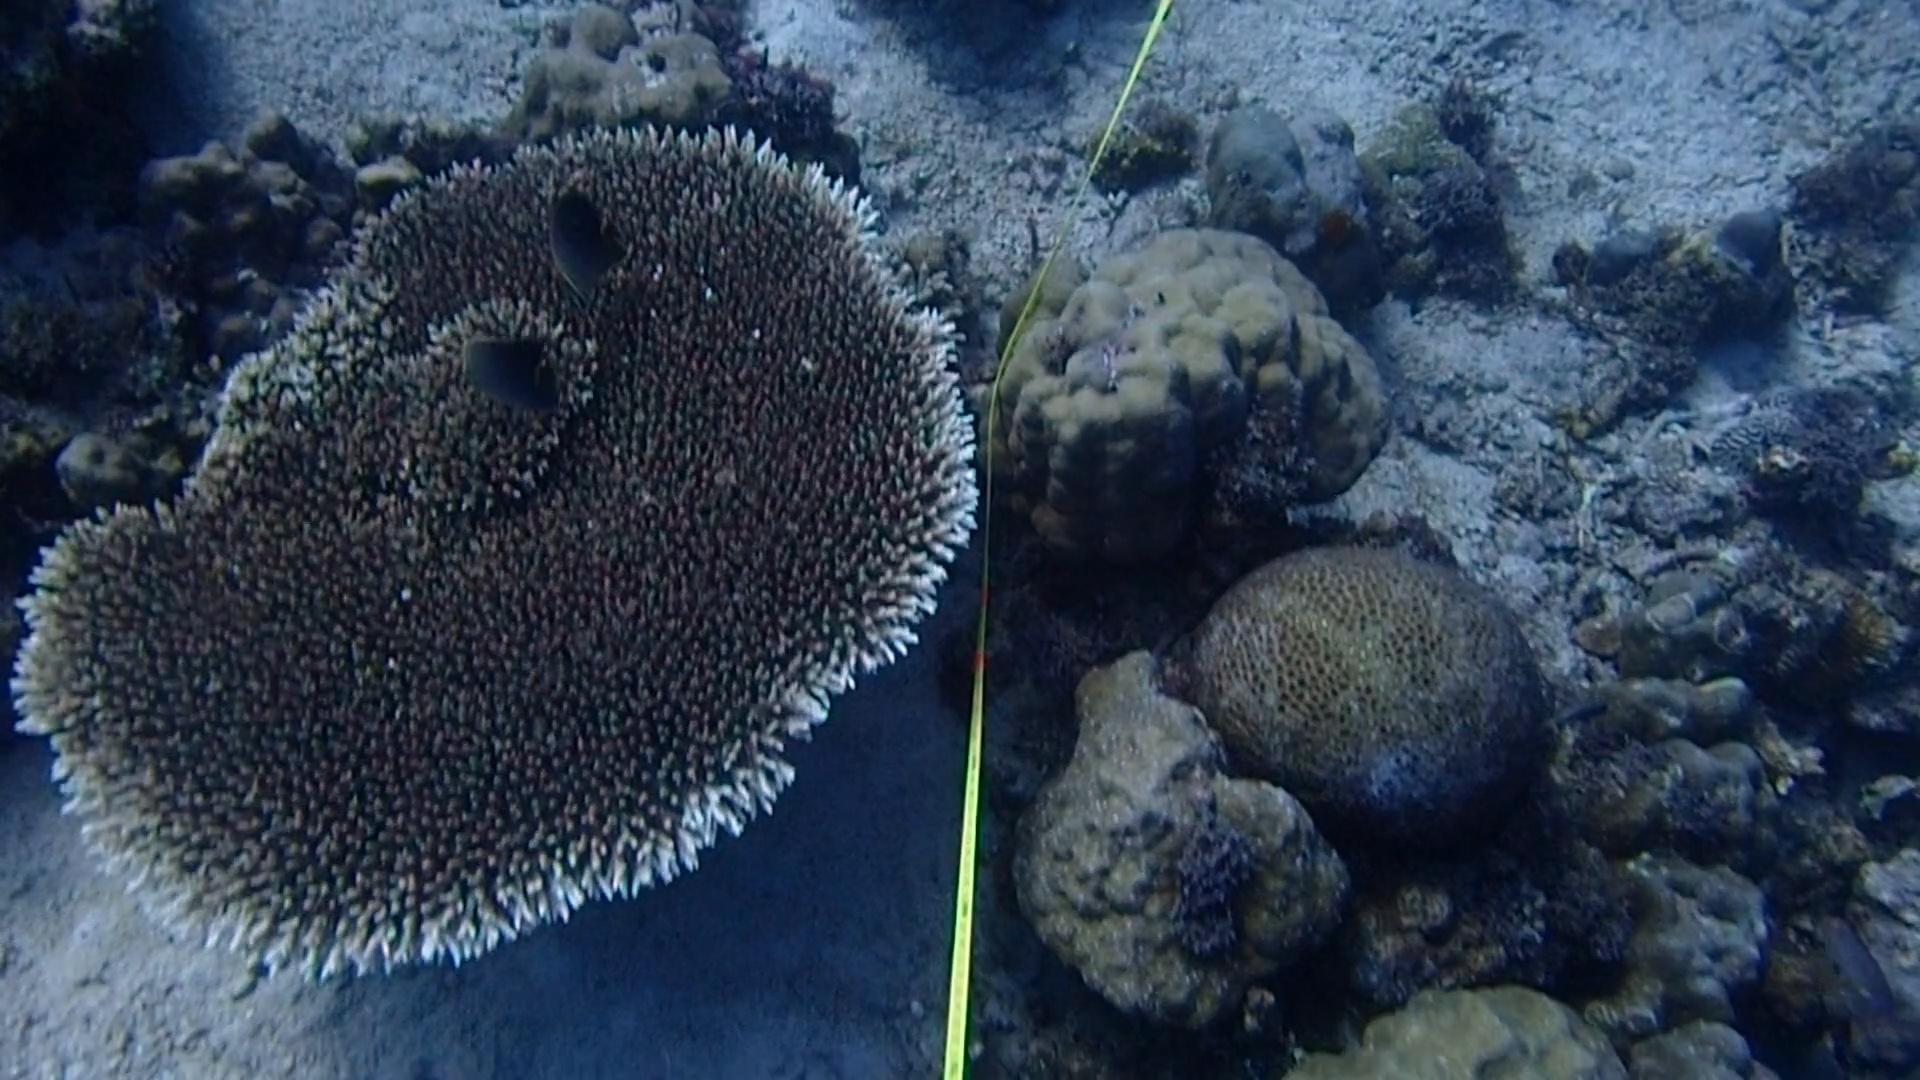Dark Blue Dory: (514, 185, 633, 301), (440, 324, 567, 425)
Light Fish: (1547, 688, 1622, 737)
